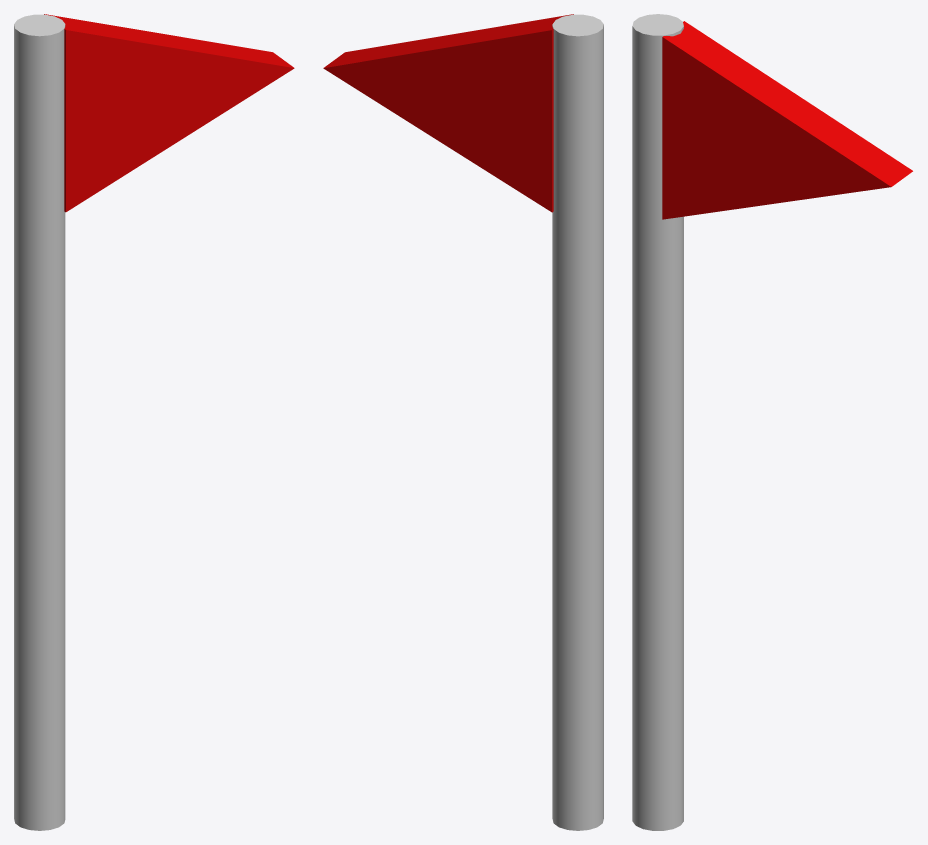
File: goalFlag.fbx
The picture shows the model from 3 angles, left to right: view 1: azimuth 30°, elevation 25°; view 2: azimuth 150°, elevation 25°; view 3: azimuth 330°, elevation 25°; orthographic projection.
Visible parts, largest first — view 1: pCylinder2; view 2: pCylinder2; view 3: pCylinder2.
Part boxes in pixels (box(x1,y1,x2,y2)): pCylinder2: box(14, 14, 294, 830); pCylinder2: box(323, 14, 603, 830); pCylinder2: box(632, 14, 912, 830).
Bounding box in the file's own units: 4.9 × 13.99 × 0.8198.
